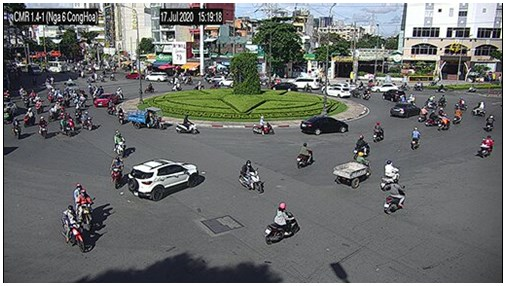xe_hoi: (130, 158, 197, 201), (301, 117, 349, 136), (389, 103, 421, 119), (93, 93, 118, 107), (290, 78, 319, 89), (382, 89, 404, 102), (323, 87, 351, 97), (372, 83, 398, 93), (272, 82, 298, 91), (145, 72, 167, 81), (219, 78, 239, 87), (125, 71, 142, 79)
xe_may: (267, 200, 300, 245), (75, 183, 96, 244), (61, 206, 86, 253), (238, 160, 264, 194), (384, 178, 406, 216), (295, 142, 314, 169), (175, 115, 198, 136), (110, 156, 123, 189), (253, 116, 275, 135), (354, 135, 370, 161), (478, 135, 495, 159), (112, 128, 125, 157), (59, 113, 71, 139), (409, 126, 421, 151), (23, 107, 36, 128), (426, 109, 441, 127), (373, 121, 384, 144), (80, 111, 92, 131), (65, 113, 76, 134), (13, 118, 22, 141), (38, 116, 47, 139), (438, 113, 449, 131), (471, 101, 484, 116), (454, 97, 467, 112), (485, 114, 496, 131), (425, 94, 437, 109), (106, 100, 116, 116), (452, 107, 461, 123), (437, 94, 448, 107), (420, 105, 428, 122), (361, 89, 373, 100), (144, 82, 155, 94), (192, 80, 205, 90), (170, 81, 182, 91), (78, 94, 86, 109), (116, 87, 124, 100), (47, 88, 54, 102), (22, 95, 30, 106), (117, 109, 123, 123), (99, 72, 106, 82), (36, 101, 42, 110), (110, 72, 115, 82)
